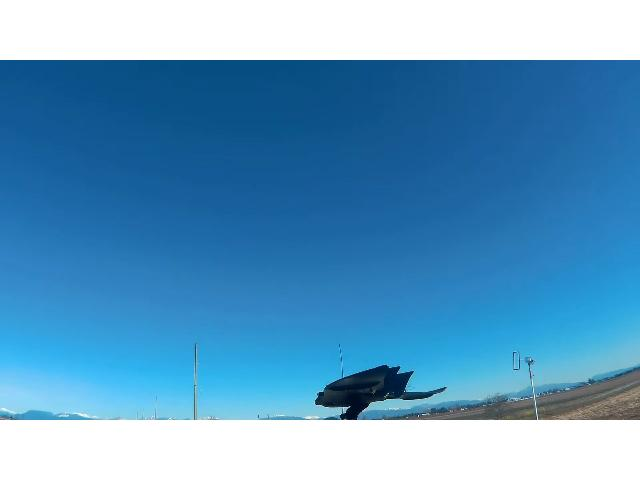Anti-Drone: (307, 356, 457, 412)
